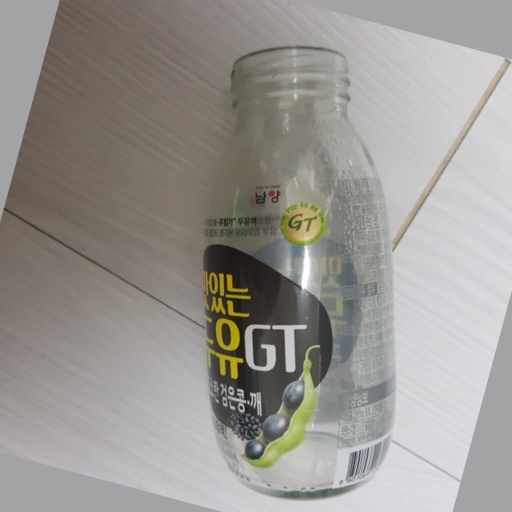Glass_4: (196, 46, 398, 498)
